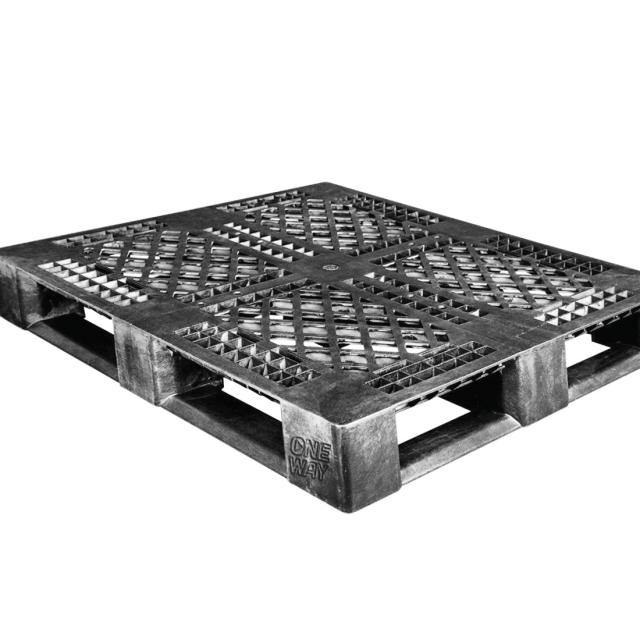non-igps: (0, 175, 640, 524)
